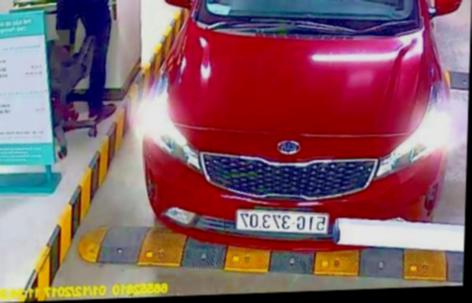License_Plate: (229, 205, 335, 237)
